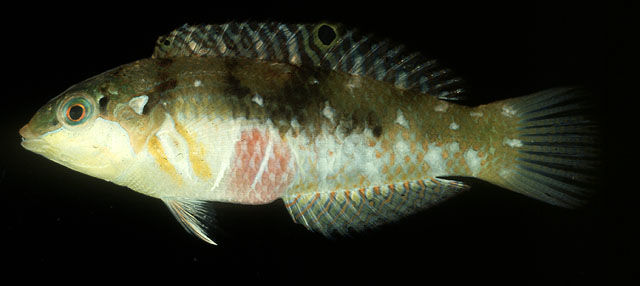fish: (19, 22, 592, 246)
